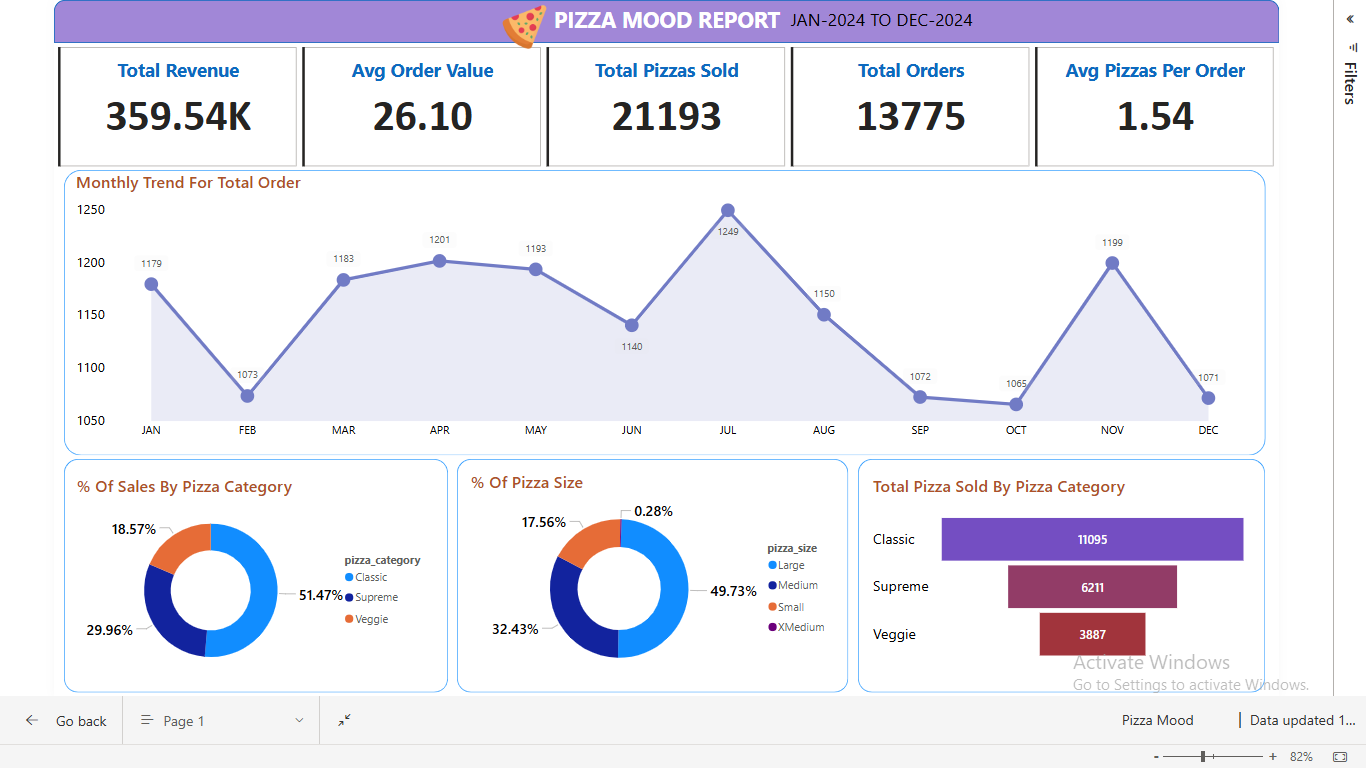

The page's visual inventory and layout, read from the dashboard file:
{"tool":"powerbi","page":{"name":"Page 1","canvas":[1500,852],"ordinal":0},"visuals":[{"type":"cardVisual","fields":{"Data":["Pizza_Mood.Total Revenue","Pizza_Mood.Avg Order Value","Pizza_Mood.Total Pizzas Sold","Pizza_Mood.Total Orders","Pizza_Mood.Avg Pizzas Per Order"]},"box":[0,52.6,1500,156.1],"z":0},{"type":"shape","box":[0,0,1500,52.6],"z":1000},{"type":"textbox","box":[601.8,0,296.5,52.6],"z":2000},{"type":"textbox","box":[842.1,3.5,342.1,49.1],"z":3000},{"type":"image","box":[535.5,0,81.7,66.1],"z":4000},{"type":"shape","box":[12.2,208.7,1471,349.5],"z":5000},{"type":"areaChart","title":"Monthly Trend For Total Order","fields":{"Category":["Pizza_Mood.Order Month"],"Y":["Pizza_Mood.Total Orders"]},"box":[22.6,208.7,1443.2,337.3],"z":6000},{"type":"shape","box":[12.3,561.4,470.2,286],"z":8000},{"type":"shape","box":[493,561.4,478.9,286],"z":9000},{"type":"shape","box":[984.2,561.4,498.2,286],"z":10000},{"type":"donutChart","title":"% Of Sales By Pizza Category","fields":{"Category":["Pizza_Mood.pizza_category"],"Y":["Pizza_Mood.Total Revenue"]},"box":[22.8,580.7,447.4,257.9],"z":11000},{"type":"donutChart","title":"% Of Pizza Size","fields":{"Category":["Pizza_Mood.pizza_size"],"Y":["Pizza_Mood.Total Revenue"]},"box":[505.3,575.4,452.6,263.2],"z":12000},{"type":"funnel","title":"Total Pizza Sold By Pizza Category","fields":{"Category":["Pizza_Mood.pizza_category"],"Y":["Pizza_Mood.Total Pizzas Sold"]},"box":[998.2,580.7,468.4,247.4],"z":13000}]}

Visuals, with their boxes on the page's 1500x852 design canvas (x1, y1, x2, y2). These are canvas units, not pixel positions in the 1366x768 screenshot, which may show the page scaled, cropped or inside an application window:
cardVisual - Pizza_Mood.Total Revenue x Pizza_Mood.Avg Order Value: bbox=[0, 53, 1500, 209]
shape: bbox=[0, 0, 1500, 53]
textbox: bbox=[602, 0, 898, 53]
textbox: bbox=[842, 4, 1184, 53]
image: bbox=[536, 0, 617, 66]
shape: bbox=[12, 209, 1483, 558]
"Monthly Trend For Total Order" areaChart: bbox=[23, 209, 1466, 546]
shape: bbox=[12, 561, 482, 847]
shape: bbox=[493, 561, 972, 847]
shape: bbox=[984, 561, 1482, 847]
"% Of Sales By Pizza Category" donutChart: bbox=[23, 581, 470, 839]
"% Of Pizza Size" donutChart: bbox=[505, 575, 958, 839]
"Total Pizza Sold By Pizza Category" funnel: bbox=[998, 581, 1467, 828]
